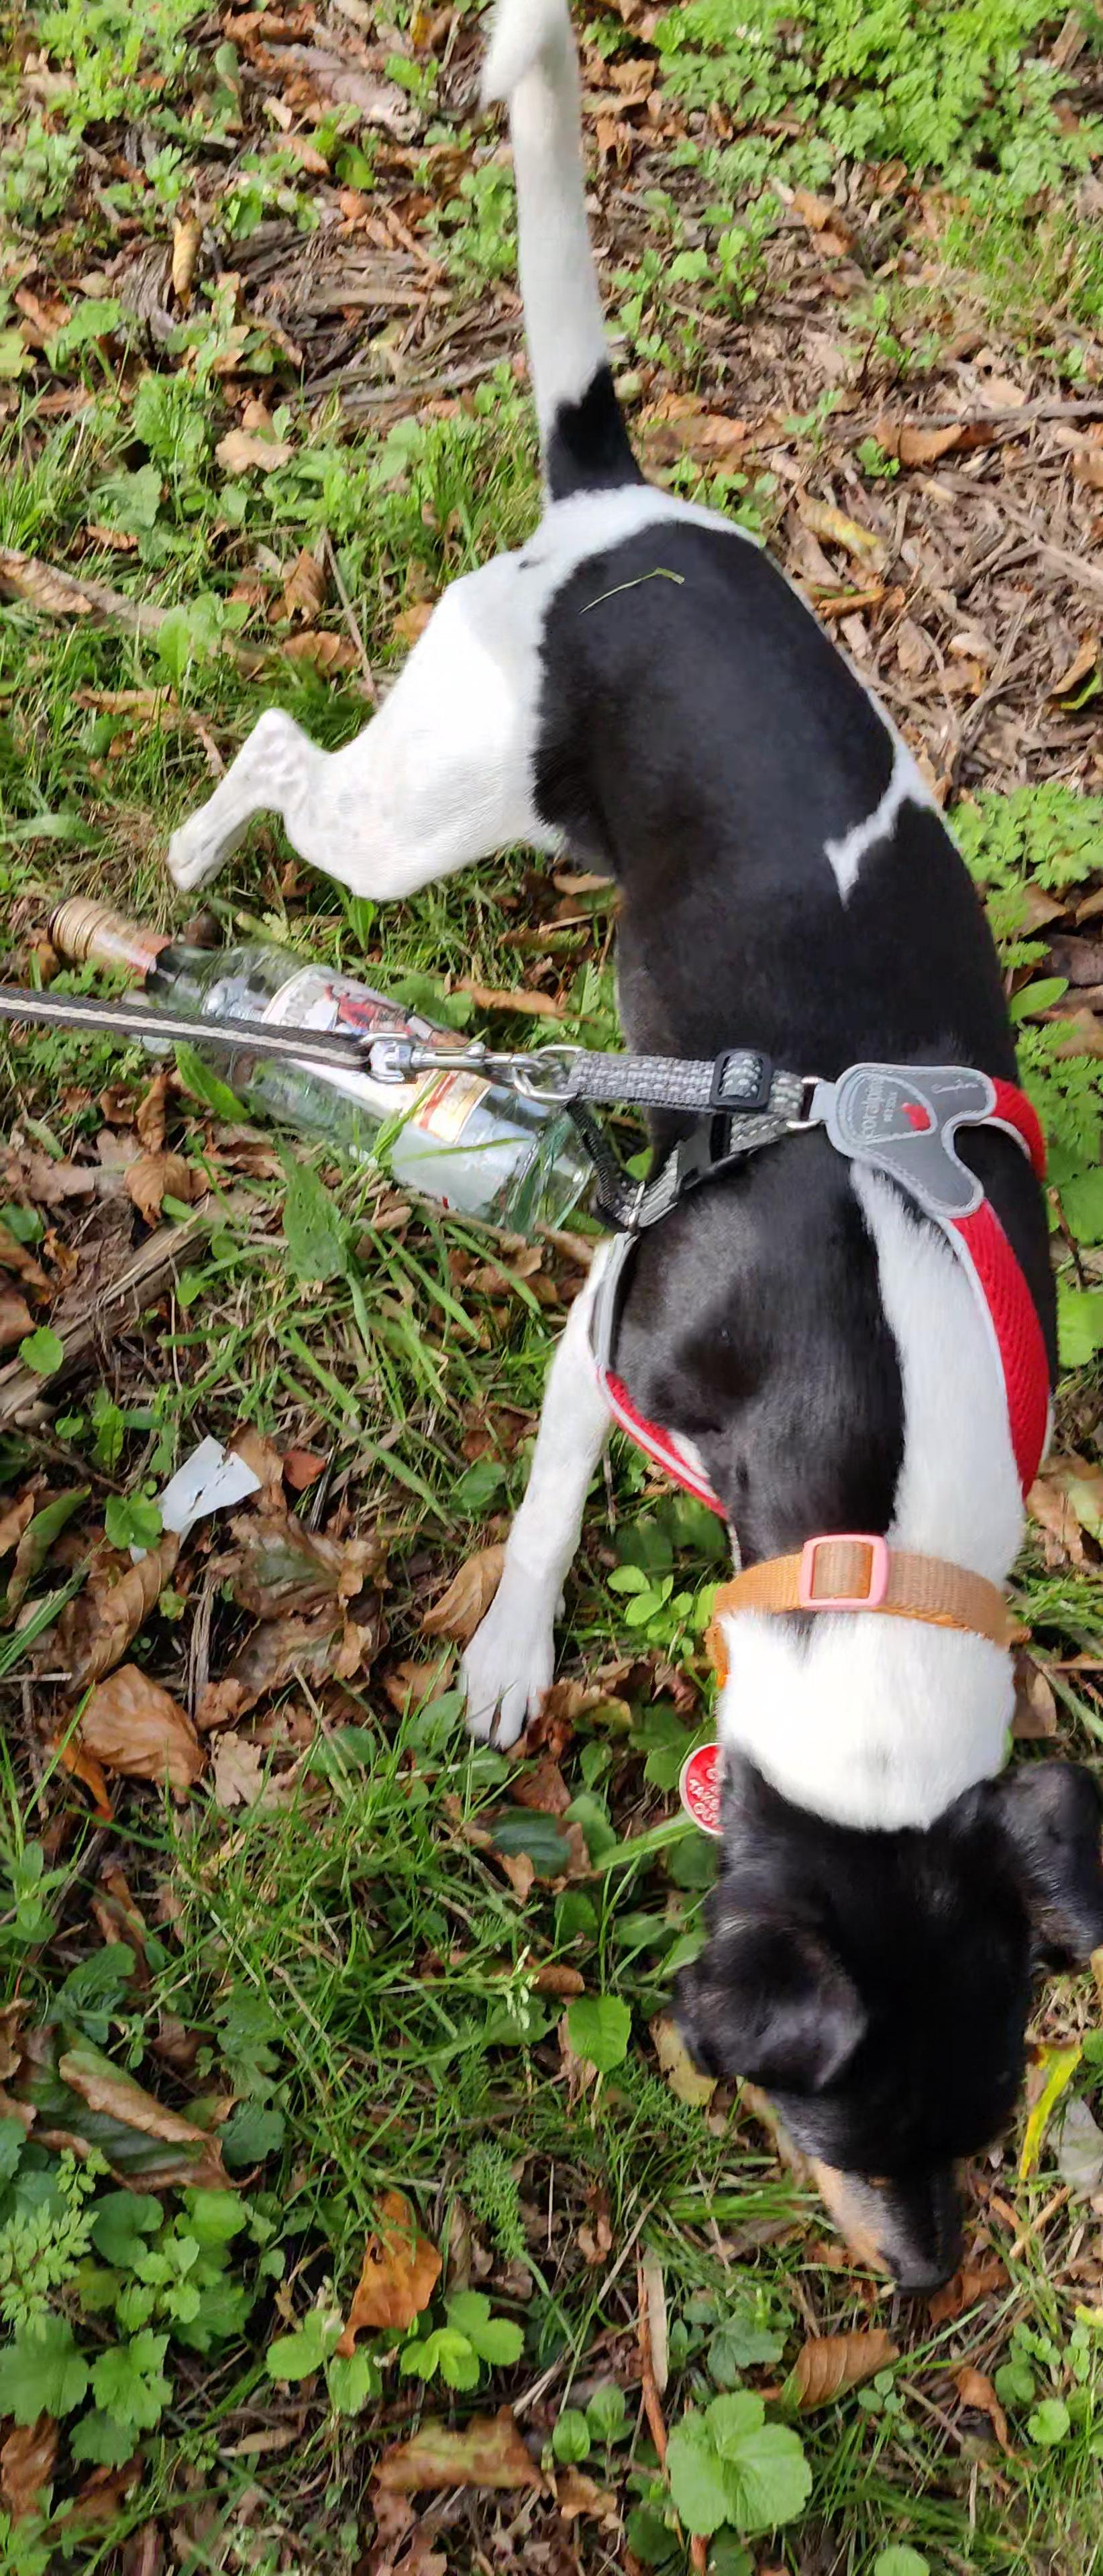Dog: (148, 0, 1103, 2320)
